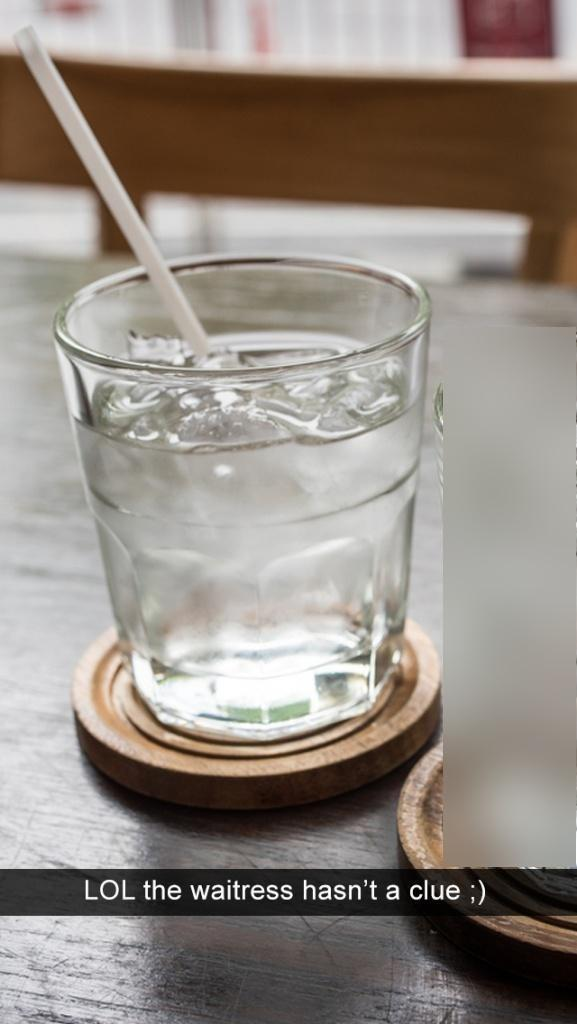glass-normal: (49, 248, 433, 736)
